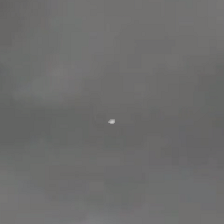Target: (108, 119, 115, 124)
